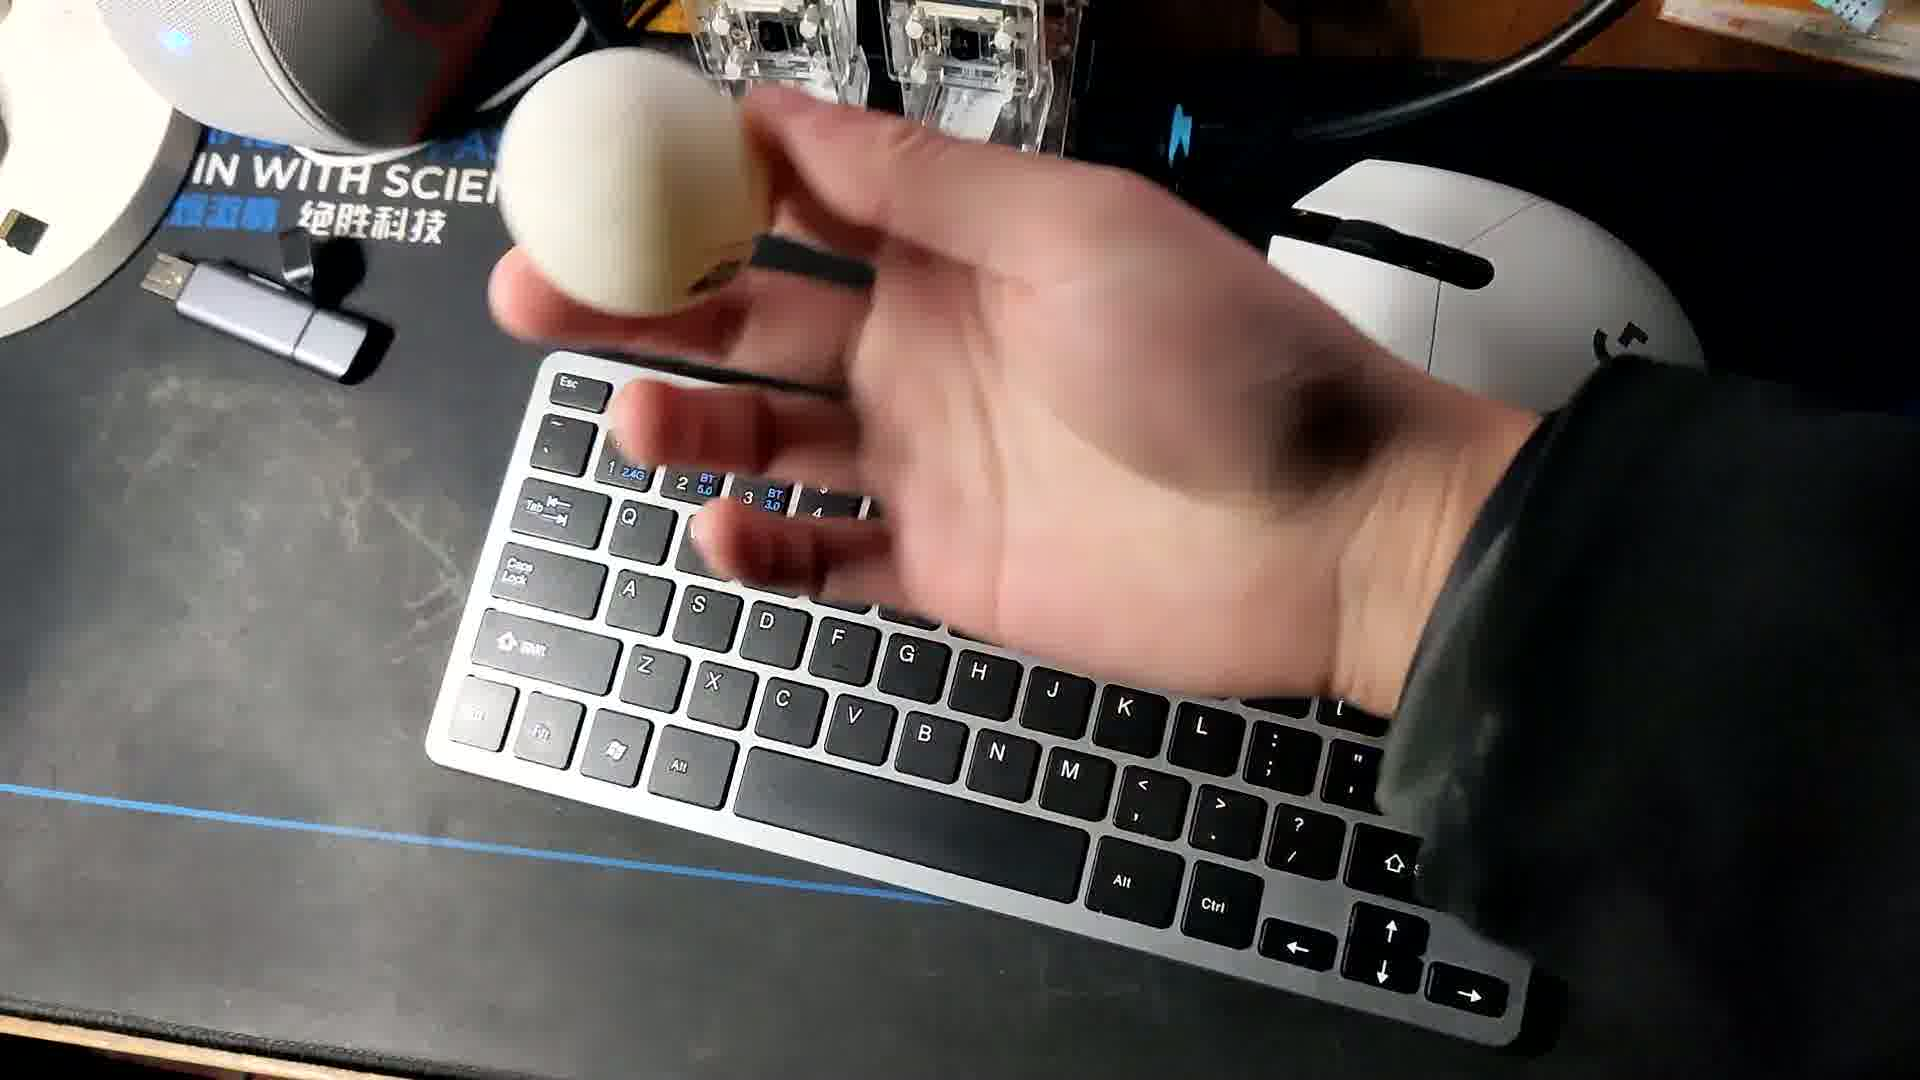Ball: (502, 50, 773, 316)
